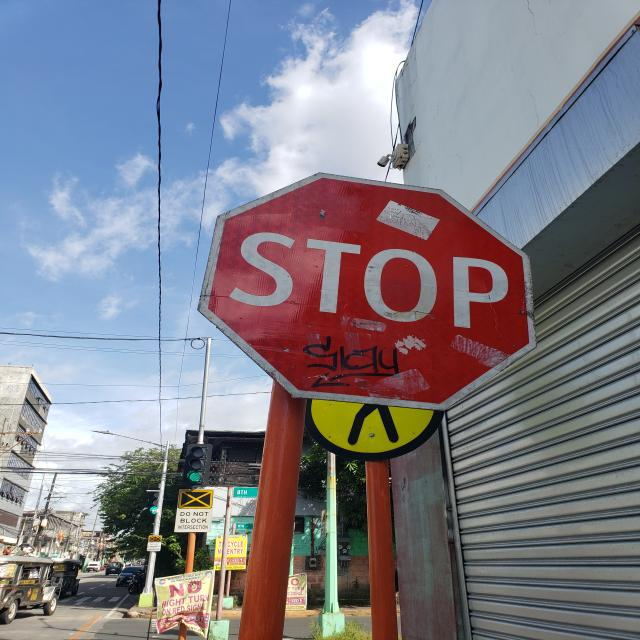stop-sign: (197, 172, 537, 412)
